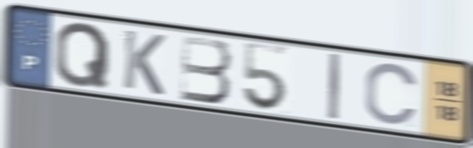5: (240, 39, 296, 114)
B: (178, 33, 234, 106)
C: (362, 60, 422, 127)
I: (326, 50, 343, 122)
K: (120, 27, 168, 99)
Q: (52, 20, 113, 89)
